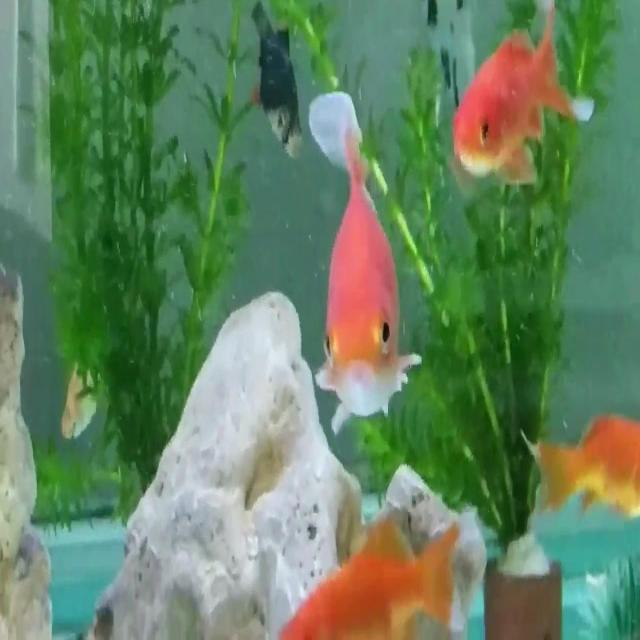GoldFish: (299, 125, 423, 442), (445, 2, 600, 210), (277, 515, 459, 640), (524, 413, 640, 520)
